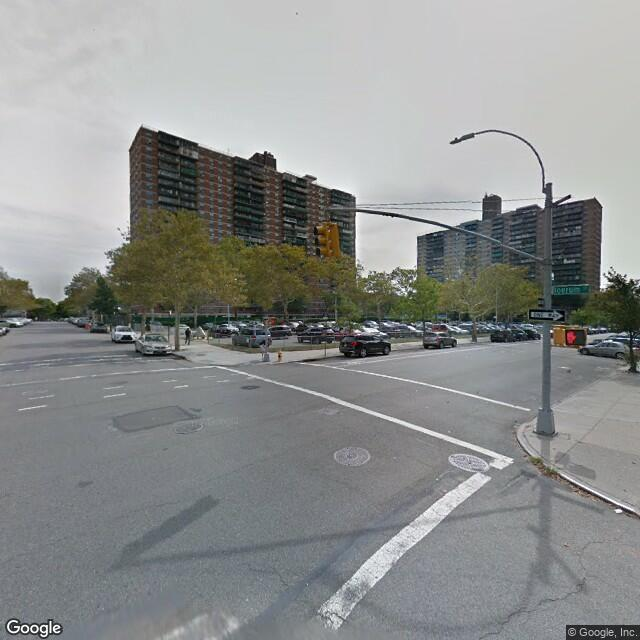litter: (609, 502, 631, 519)
